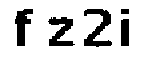2: (78, 5, 115, 48)
f: (10, 6, 35, 51)
i: (118, 6, 139, 52)
z: (43, 13, 75, 51)
